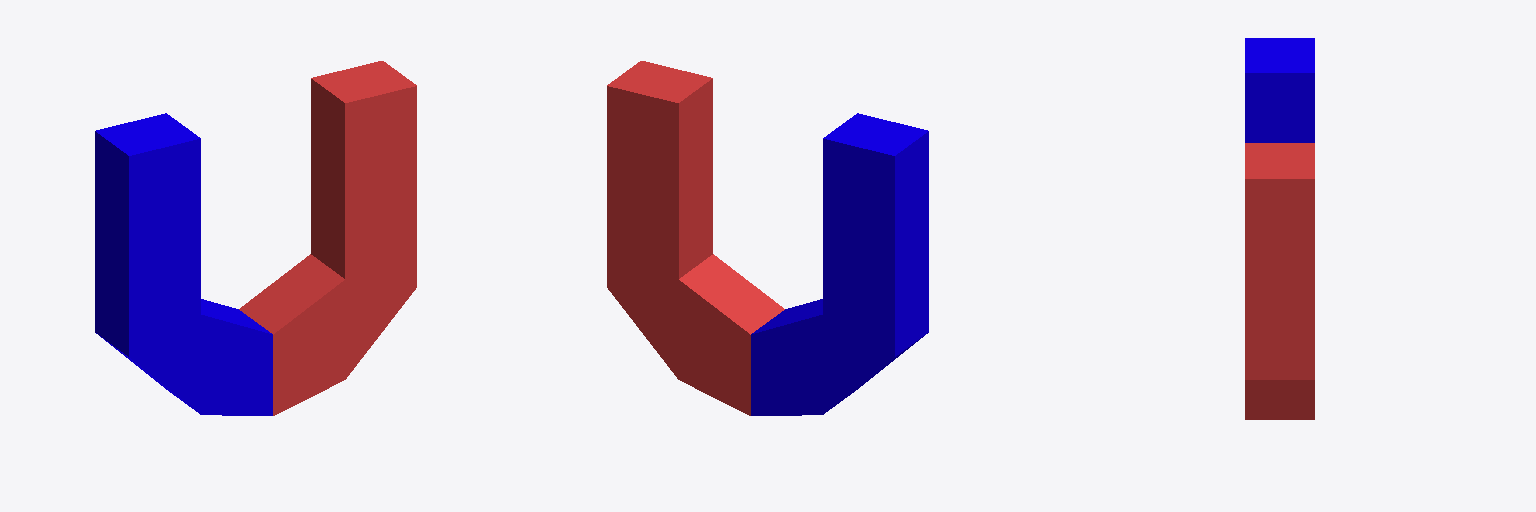
3 views of the same model, side by side, from view 1: azimuth 30°, elevation 25°; view 2: azimuth 150°, elevation 25°; view 3: azimuth 270°, elevation 25° (orthographic).
Visible parts, largest first — view 1: cuboid; view 2: cuboid; view 3: cuboid.
Part boxes in pixels (x1,y1,x2,y2): cuboid: (95, 61, 416, 415); cuboid: (607, 61, 928, 415); cuboid: (1245, 38, 1314, 419).
Bounding box in the file's own units: 0.75 × 0.7344 × 0.1562.
Materials: 1 (1 with a texture image).